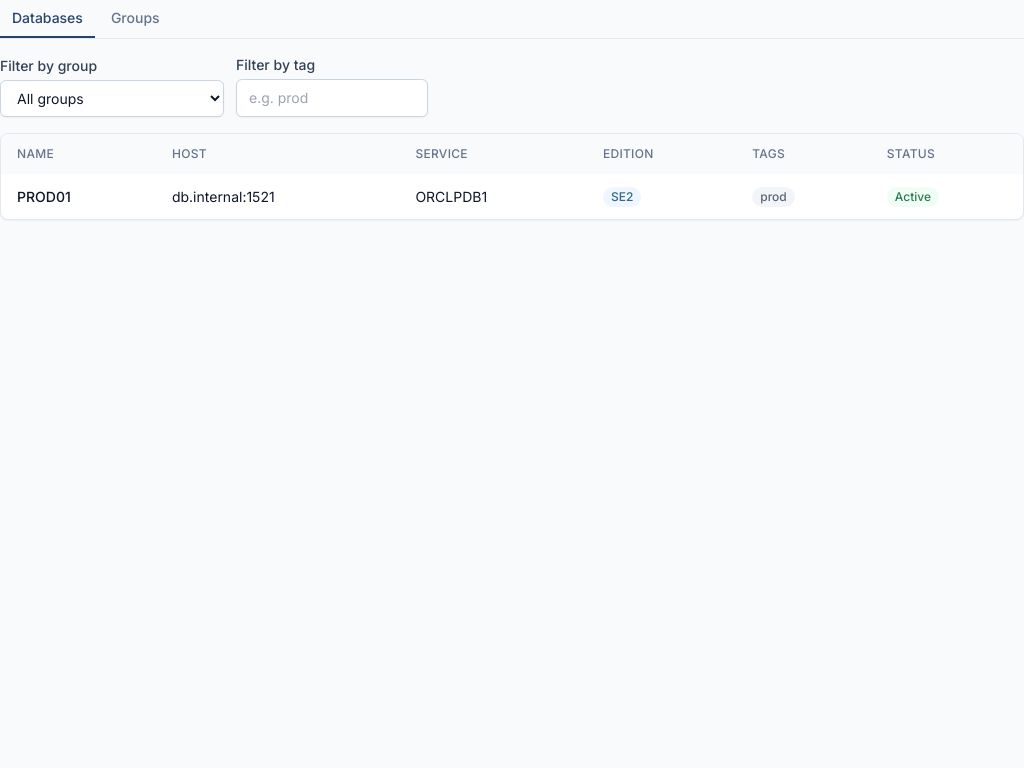
Test: DatabasesPage › deletes a database after confirmation
Click the text "PROD01": (44, 196) [17, 188, 71, 204]
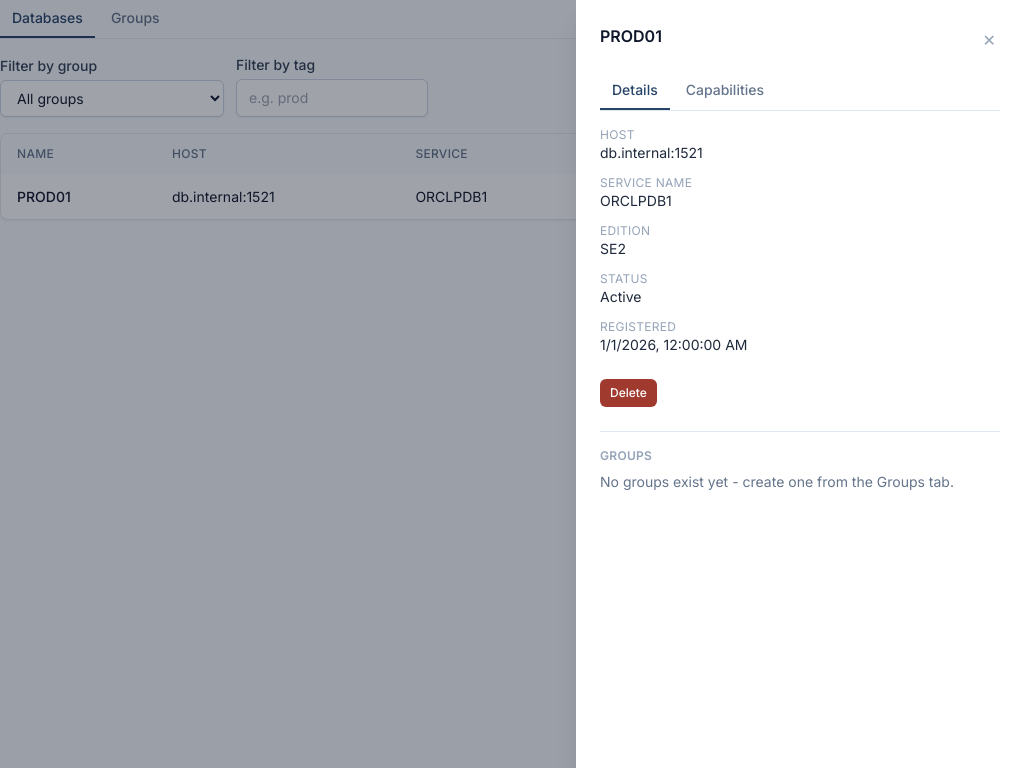
Click the button "Delete": (628, 393) [600, 379, 657, 407]
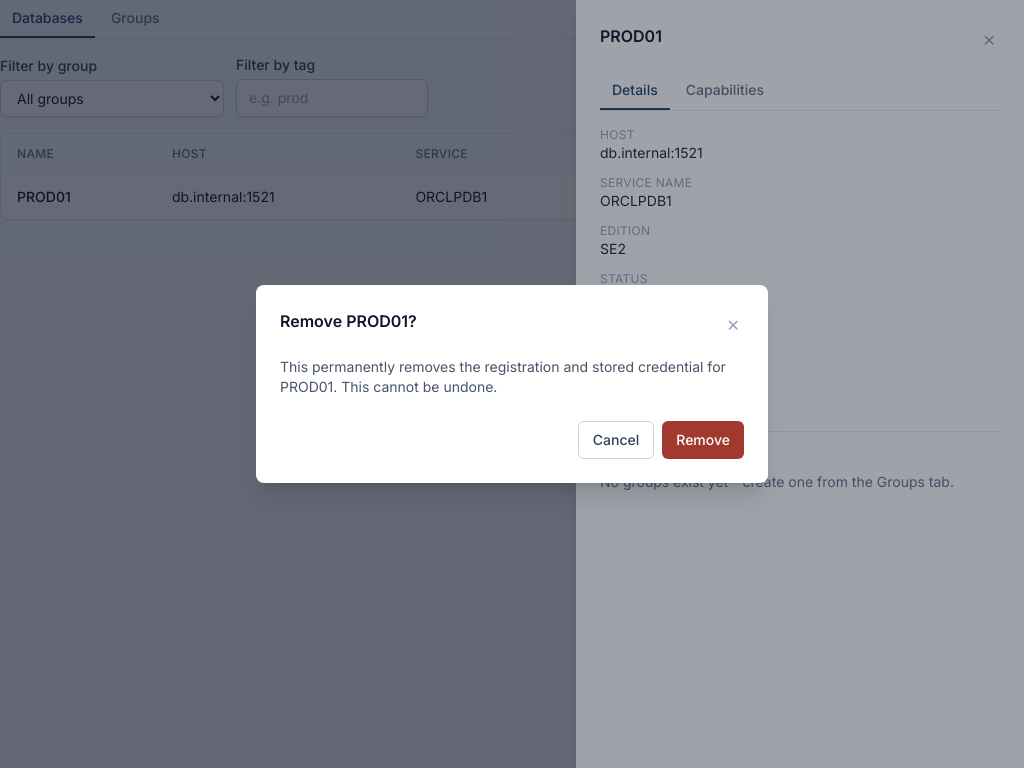
Click the button "Remove": (703, 440) [662, 421, 744, 459]
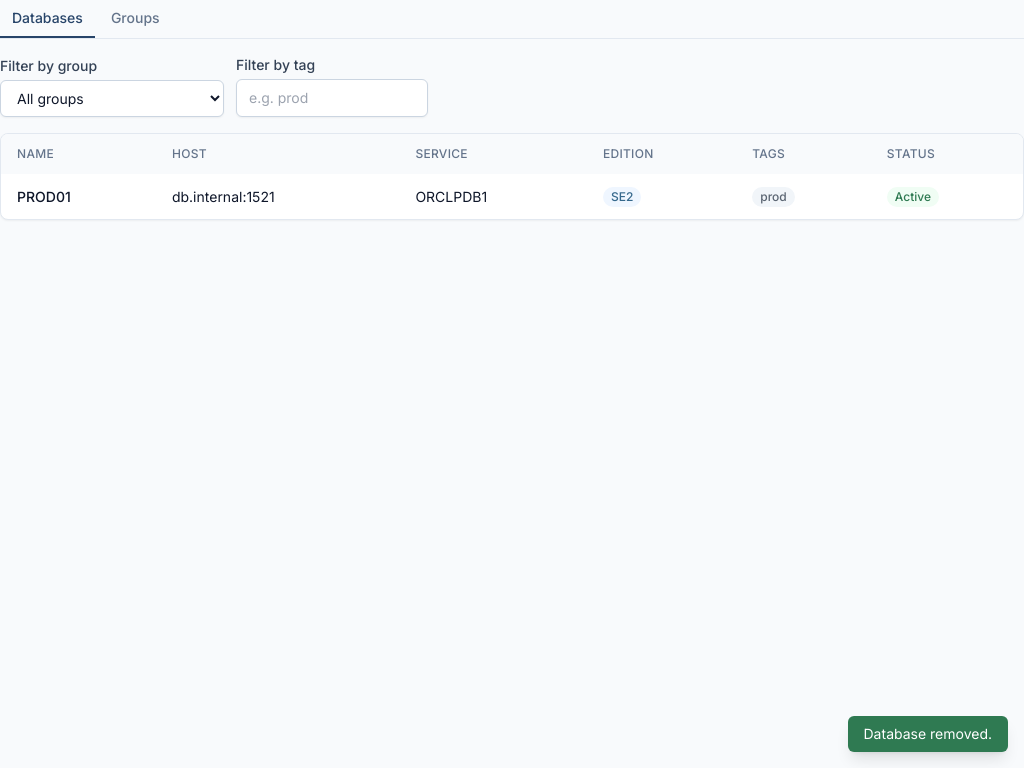
Expected: the text "Database removed." is shown, [848, 716, 1008, 752]
